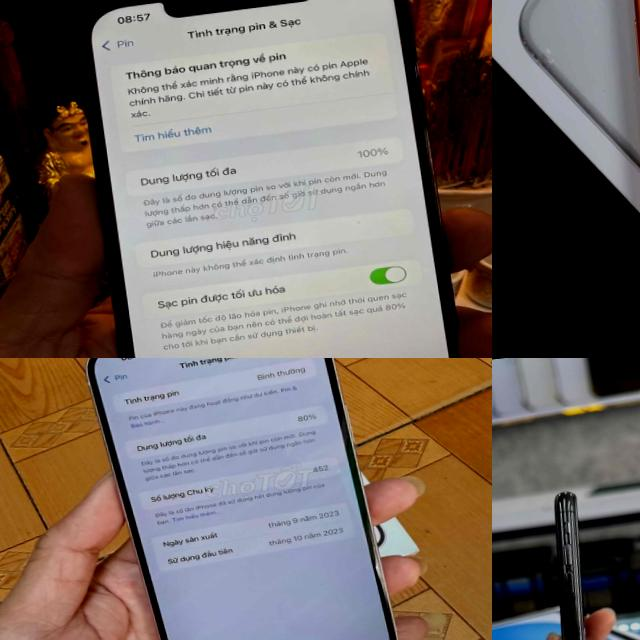gen_12_13: (68, 0, 485, 358)
gen_15: (65, 358, 411, 640)
gen_x_xs: (512, 479, 623, 640)
scratch: (368, 547, 387, 594)
